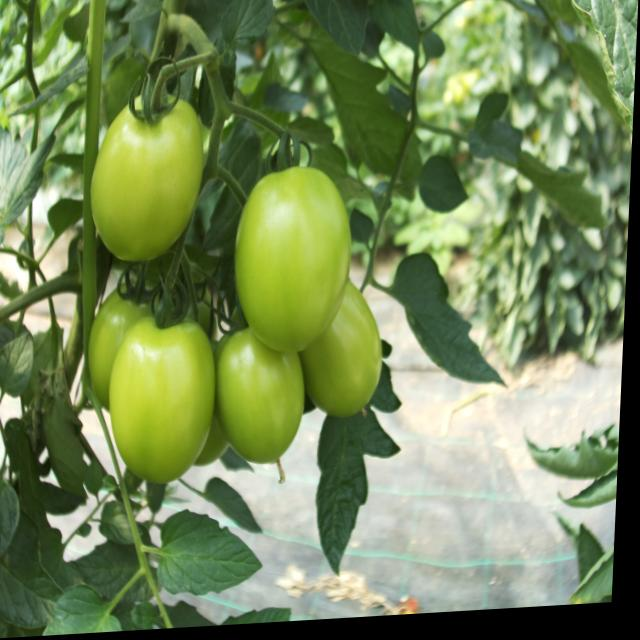yesil: (72, 64, 426, 491)
